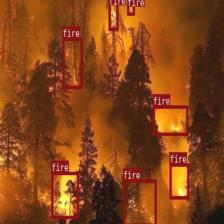fire: (123, 179, 156, 224), (51, 172, 79, 218), (152, 105, 188, 135), (62, 37, 82, 88), (169, 163, 189, 199), (108, 0, 118, 30), (127, 0, 134, 15)
